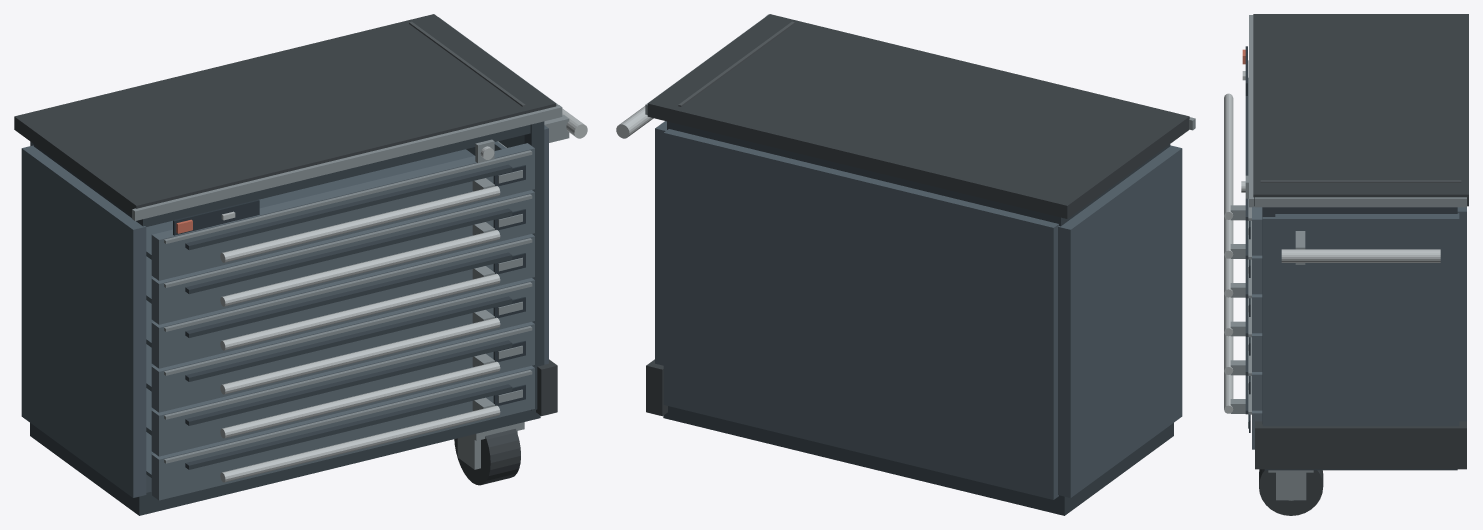
Rendered from werkzeugwagen.glb.
3 renders of one model, left to right at view 1: azimuth 30°, elevation 25°; view 2: azimuth 150°, elevation 25°; view 3: azimuth 270°, elevation 25°, orthographic. The views are drawn at different scales.
Visible parts, largest first — view 1: Rubber_top_mat, Left_side_sheet, Drawer_front_1, Drawer_front_4, Drawer_front_6, Drawer_front_2, Drawer_front_3, Drawer_front_5, Base_steel_pan, Top_aluminum_edge, Inner_top_reinforcement, Handle_grab_bar_4 (+24 smaller); view 2: Rear_sheet, Rubber_top_mat, Left_side_sheet, Base_steel_pan, Inner_top_reinforcement, Right_side_sheet, Side_bumper; view 3: Right_side_sheet, Rubber_top_mat, Side_bumper, Top_aluminum_edge_side, Side_push_handle, Rear_sheet, Caster_tire, Inner_top_reinforcement, Handle_grab_bar_1, Top_aluminum_edge, Caster_fork_right, Top_rubber_rib (+13 smaller).
Boxes of the visible parts, <box> form: Rubber_top_mat: <box>14,14,556,215</box>; Left_side_sheet: <box>21,145,146,497</box>; Drawer_front_1: <box>151,143,534,280</box>; Drawer_front_4: <box>151,278,534,412</box>; Drawer_front_6: <box>151,365,534,500</box>; Drawer_front_2: <box>151,190,534,324</box>; Drawer_front_3: <box>151,234,534,368</box>; Drawer_front_5: <box>151,322,534,456</box>; Base_steel_pan: <box>30,410,540,515</box>; Top_aluminum_edge: <box>132,105,562,220</box>; Inner_top_reinforcement: <box>33,124,530,226</box>; Handle_grab_bar_4: <box>220,317,500,394</box>; Rear_sheet: <box>663,129,1058,499</box>; Rubber_top_mat: <box>647,14,1189,218</box>; Left_side_sheet: <box>1058,145,1182,497</box>; Base_steel_pan: <box>663,406,1173,515</box>; Inner_top_reinforcement: <box>667,121,1170,226</box>; Right_side_sheet: <box>655,121,666,365</box>; Side_bumper: <box>646,359,667,416</box>; Right_side_sheet: <box>1262,213,1459,426</box>; Rubber_top_mat: <box>1253,14,1468,206</box>; Side_bumper: <box>1255,421,1466,469</box>; Top_aluminum_edge_side: <box>1255,197,1466,207</box>; Side_push_handle: <box>1281,249,1440,262</box>; Rear_sheet: <box>1457,207,1466,421</box>; Caster_tire: <box>1259,469,1323,515</box>; Inner_top_reinforcement: <box>1275,207,1457,213</box>; Handle_grab_bar_1: <box>1224,93,1233,219</box>; Top_aluminum_edge: <box>1249,15,1254,207</box>; Caster_fork_right: <box>1276,472,1306,500</box>; Top_rubber_rib: <box>1260,180,1461,182</box>.
Size of the model in its own units: 1.27 by 0.982 by 0.647.
